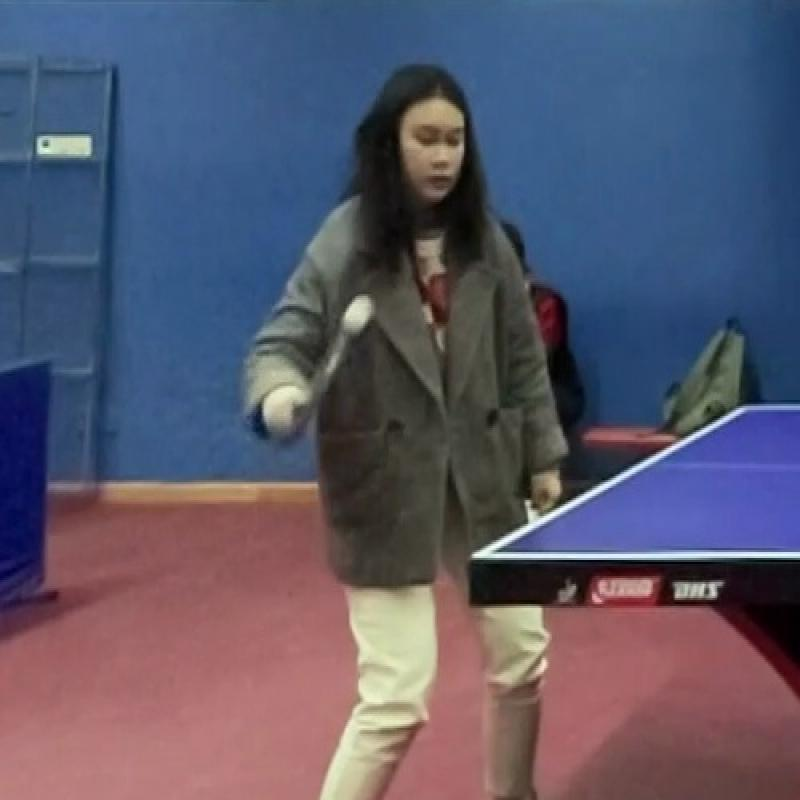bats: (280, 306, 376, 446)
